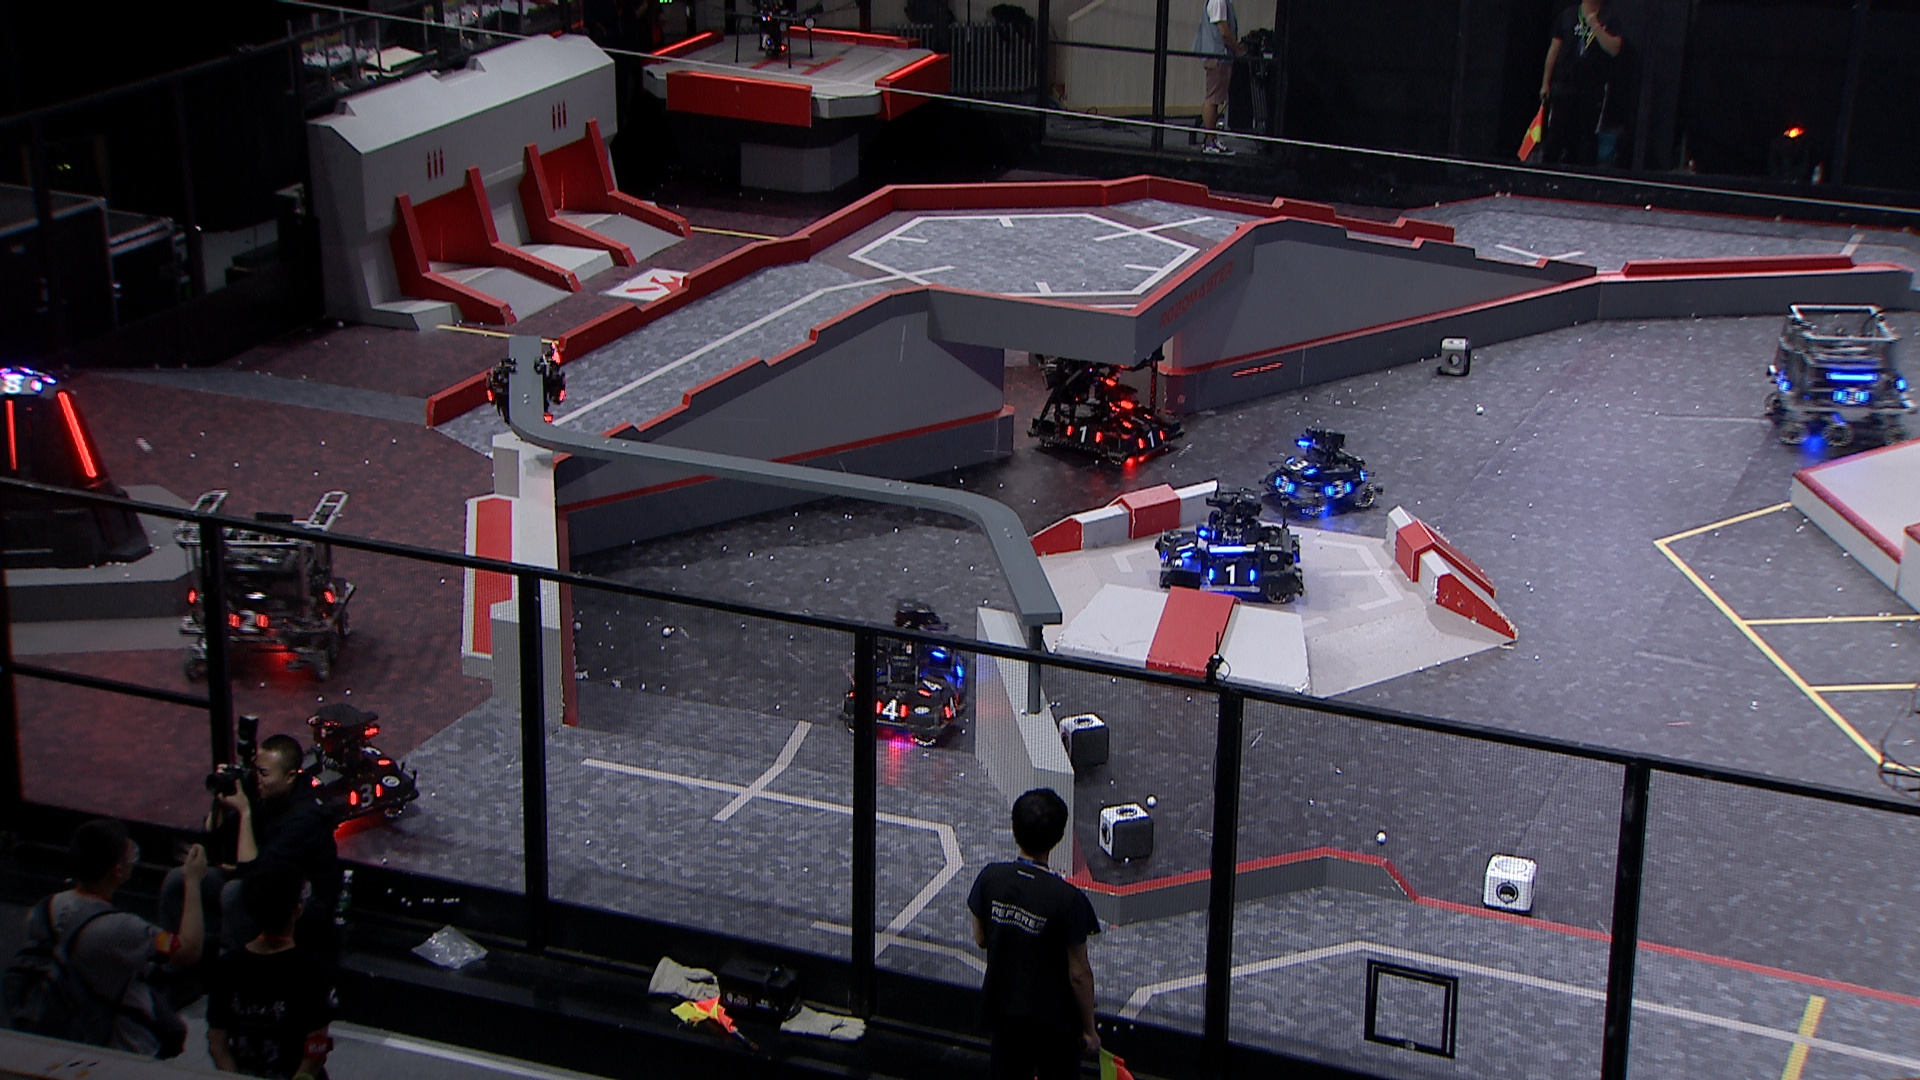armor: (54, 390, 102, 481), (342, 782, 386, 811), (228, 608, 272, 637), (1209, 562, 1258, 585), (5, 400, 21, 469), (1064, 425, 1106, 448), (1135, 427, 1168, 452), (363, 744, 394, 769), (877, 699, 910, 723), (1836, 386, 1869, 409), (1321, 479, 1354, 498), (1284, 458, 1316, 477), (1174, 537, 1201, 559), (1120, 411, 1155, 429), (319, 580, 343, 605), (1771, 372, 1793, 396), (918, 678, 942, 698), (1273, 476, 1298, 495), (944, 695, 960, 719)
car: (169, 488, 361, 684), (1025, 315, 1187, 467), (1760, 305, 1920, 450), (264, 702, 419, 832), (1153, 488, 1309, 607), (839, 644, 968, 752), (1258, 429, 1378, 520), (860, 599, 972, 694)
ignore: (1, 375, 44, 396)
watcher: (484, 339, 570, 429)
